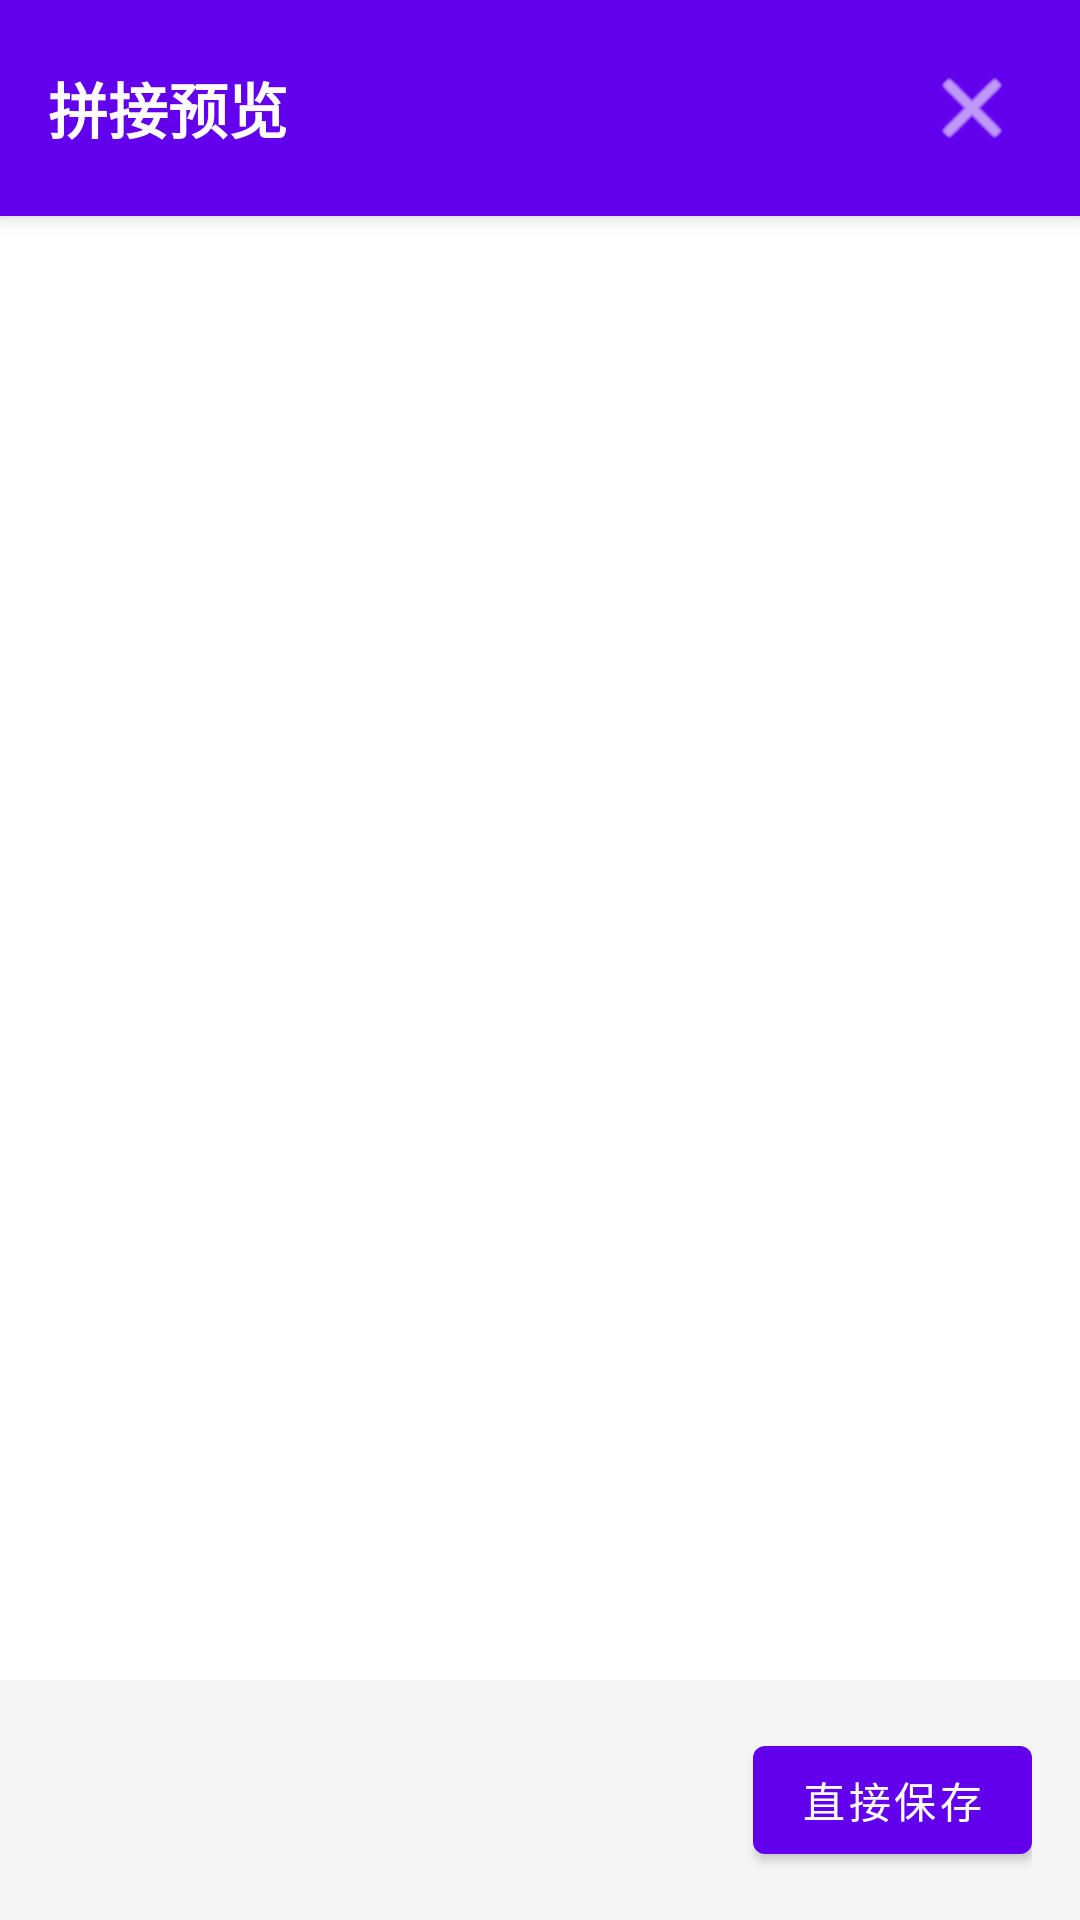

Icons on this 1080×1920 Android screen, each with its box as bbox=(x1, y1, x2, y2):
关闭: bbox=(942, 78, 1002, 138)
